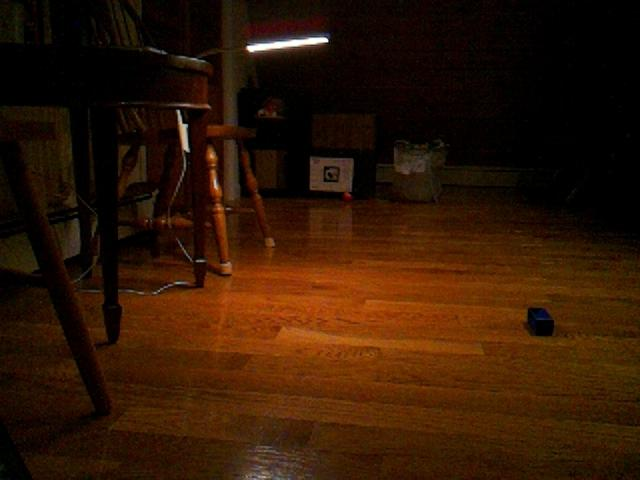blue: (526, 305, 556, 337)
